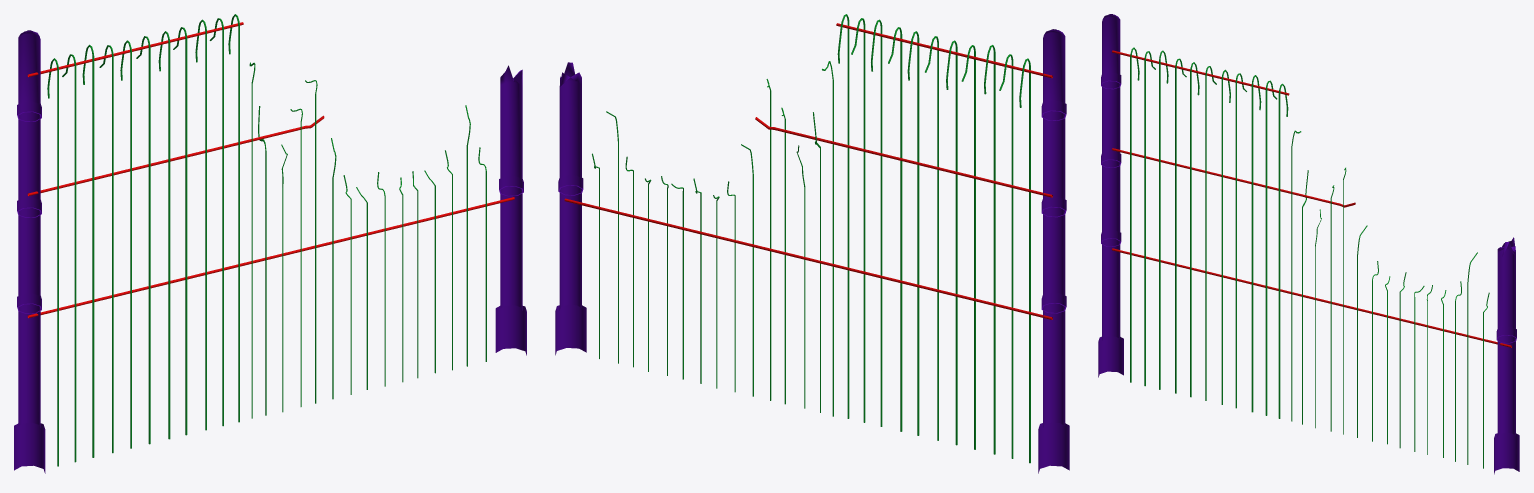
File: Fence2.FBX
3 views of the same model, side by side, from view 1: azimuth 30°, elevation 25°; view 2: azimuth 150°, elevation 25°; view 3: azimuth 330°, elevation 25° (orthographic). The views are drawn at different scales.
Visible parts, largest first — view 1: Line042; view 2: Line042; view 3: Line042.
Part boxes in pixels (<box>): Line042: <box>14,14,526,473</box>; Line042: <box>555,14,1069,473</box>; Line042: <box>1098,14,1519,474</box>.
Bounding box in the file's own units: 198 × 164 × 12.64.
